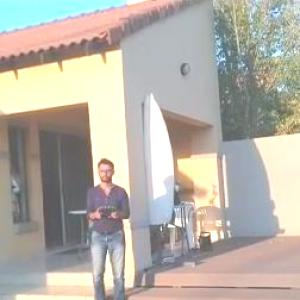follow: (82, 152, 141, 299)
